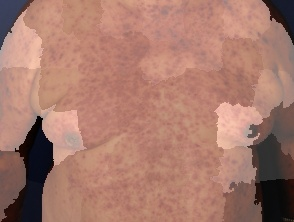SJS-TEN: (0, 0, 278, 221)
